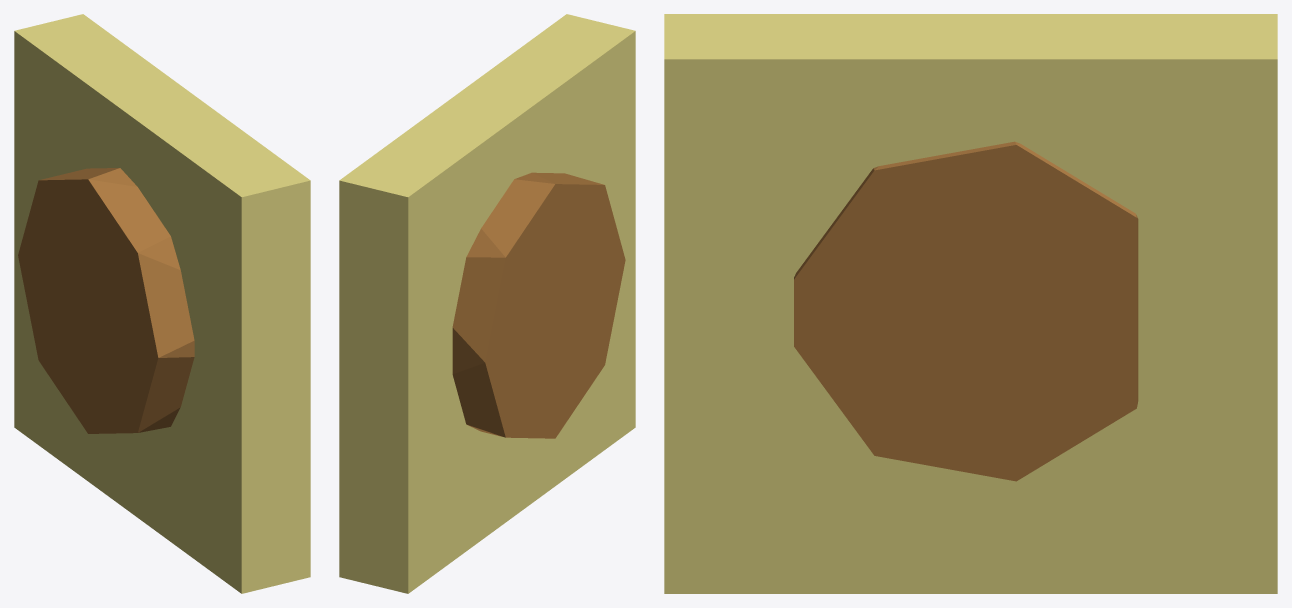
Rendered from button.glb.
3 renders of one model, left to right at view 1: azimuth 30°, elevation 25°; view 2: azimuth 150°, elevation 25°; view 3: azimuth 270°, elevation 25°, orthographic. The views are drawn at different scales.
Parts seen in each view (by area): view 1: Cube, Cylinder; view 2: Cube, Cylinder; view 3: Cube, Cylinder.
Part boxes in pixels (bbox=[...]): Cube: bbox=[14, 14, 310, 593]; Cylinder: bbox=[18, 168, 194, 433]; Cube: bbox=[339, 14, 635, 593]; Cylinder: bbox=[452, 172, 625, 438]; Cube: bbox=[664, 14, 1277, 593]; Cylinder: bbox=[794, 141, 1138, 481].
Size of the model in its own units: 0.0818 by 0.2809 by 0.292.
